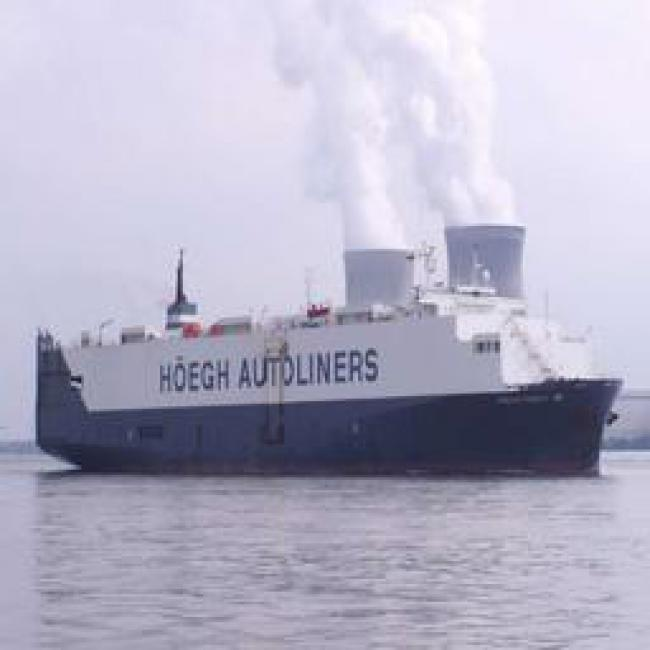Ship: (23, 297, 630, 492)
